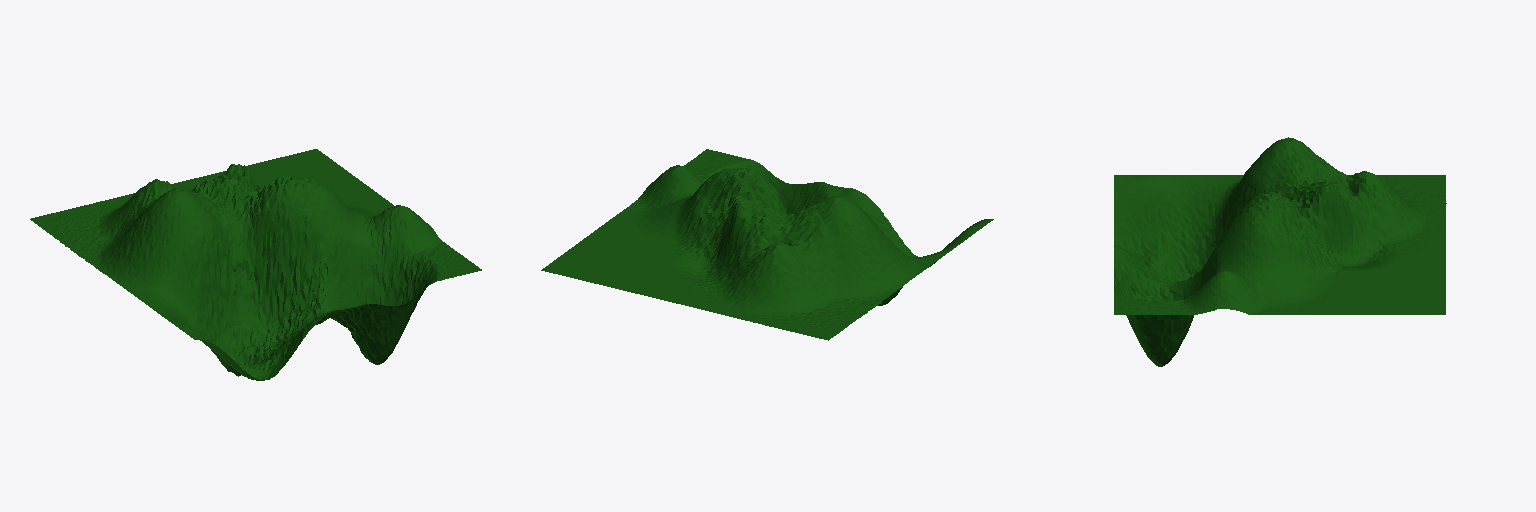
File: terrain.obj
3 renders of one model, left to right at view 1: azimuth 30°, elevation 25°; view 2: azimuth 150°, elevation 25°; view 3: azimuth 270°, elevation 25°, orthographic.
Parts seen in each view (by area): view 1: Grid_Grid.001; view 2: Grid_Grid.001; view 3: Grid_Grid.001.
Part boxes in pixels (bbox=[...]): Grid_Grid.001: bbox=[30, 149, 481, 380]; Grid_Grid.001: bbox=[541, 149, 993, 340]; Grid_Grid.001: bbox=[1114, 137, 1446, 366].
Size of the model in its own units: 20.09 by 10.65 by 20.06.